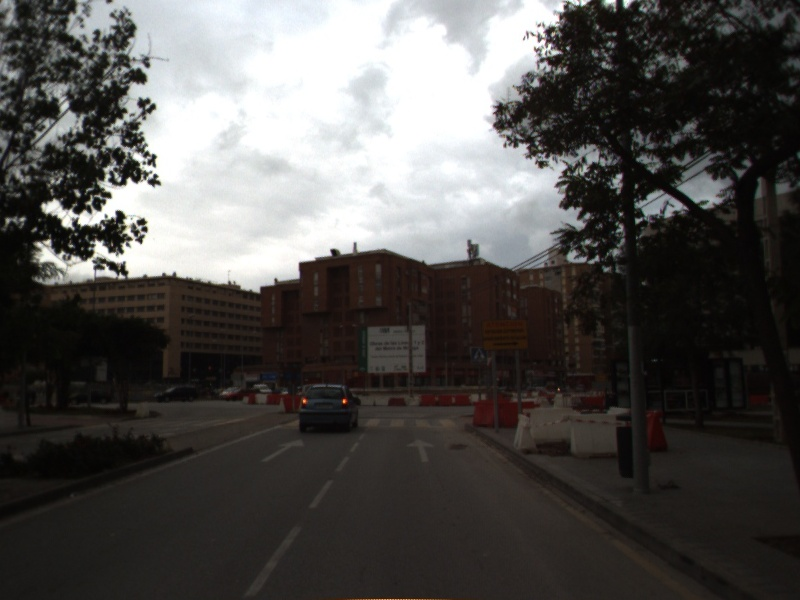STRAIGHT: (259, 436, 308, 464), (404, 436, 437, 464)
